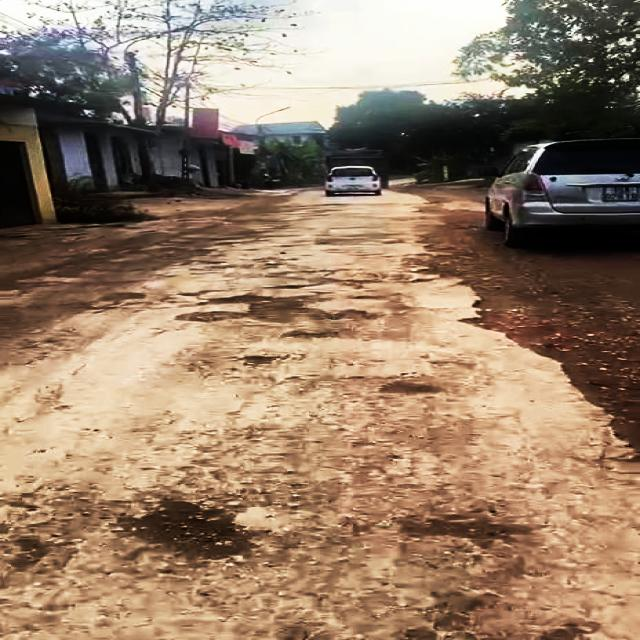pothole: (119, 499, 259, 561), (178, 292, 381, 322)
